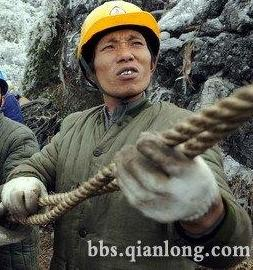gloves: (112, 129, 220, 223), (0, 175, 48, 226)
hard-hat: (75, 0, 160, 61)
